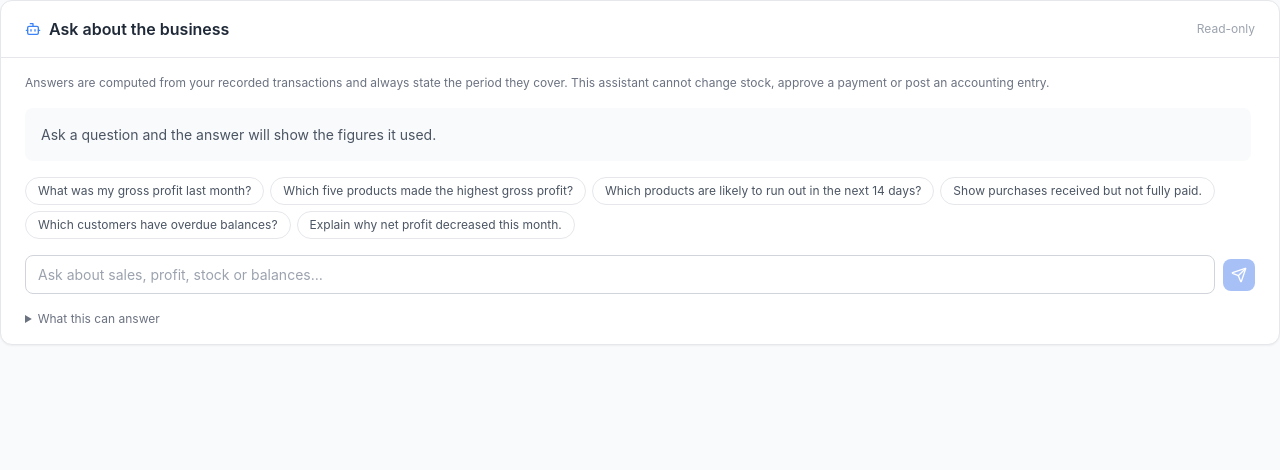
Test: AssistantPanel › answers a question with its period, assumptions and a link to the report
Click the button "What was my gross profit last month?".
click(145, 191)  # box [25,177,264,205]
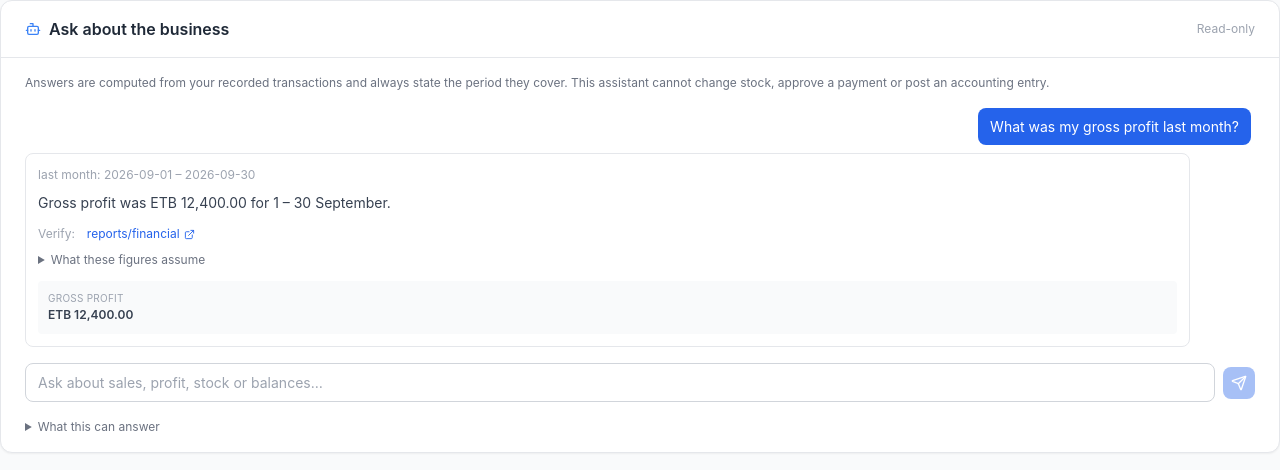
Now the text "Gross profit was ETB 12,400.00 for 1 – 30 September." is shown, box [38,194,391,211]
Now the text "last month: 2026-09-01 – 2026-09-30" is shown, box [38,166,255,184]
